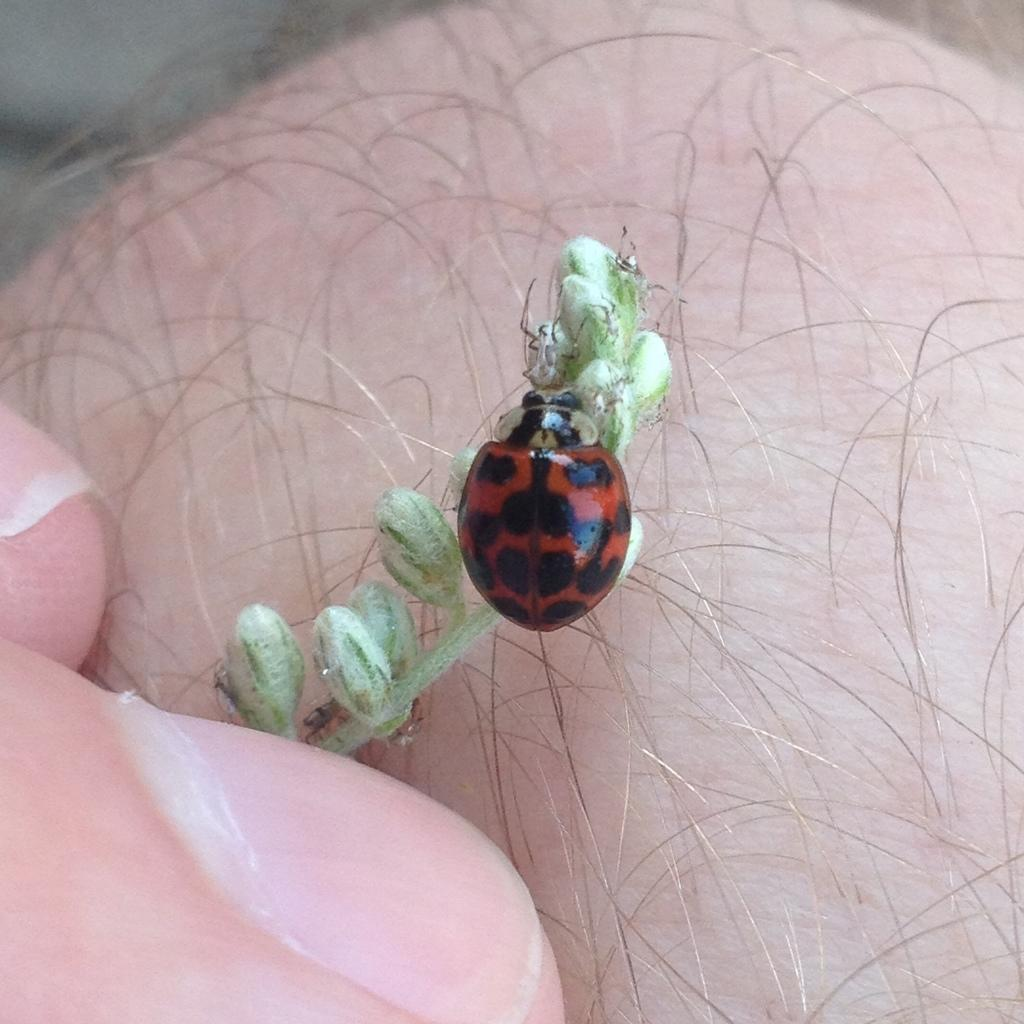ladybug: (449, 384, 639, 636)
